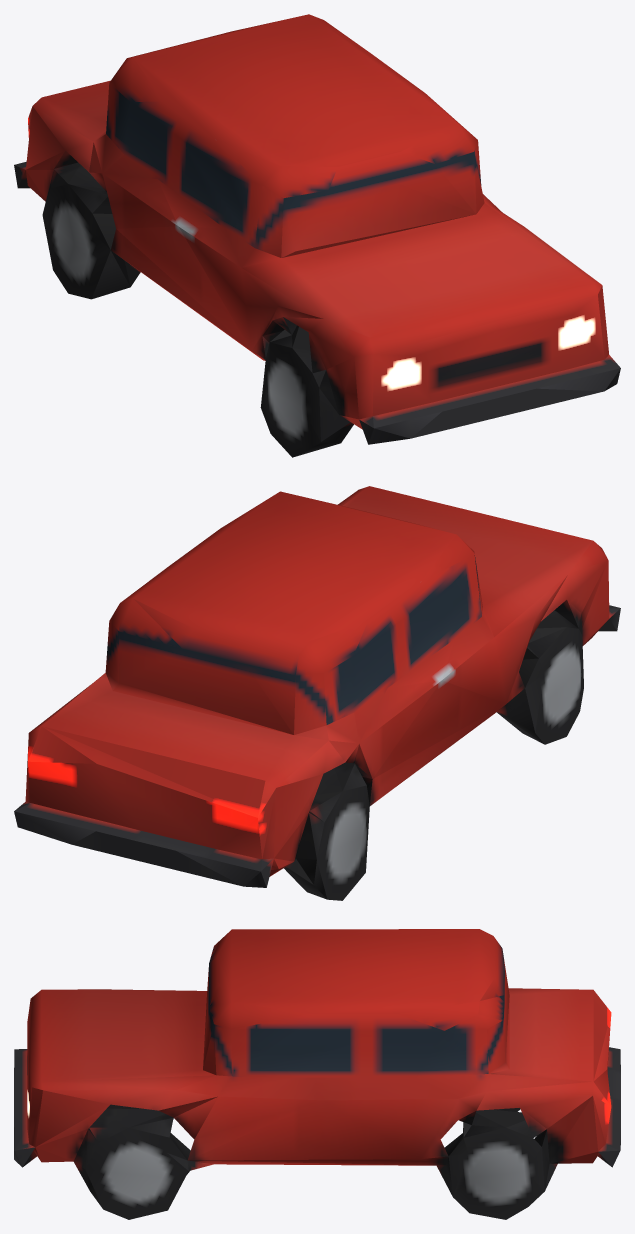
The model's file is car_edits.far.glb.
3 renders of one model, top to bottom at view 1: azimuth 30°, elevation 25°; view 2: azimuth 150°, elevation 25°; view 3: azimuth 270°, elevation 25°, orthographic. The views are drawn at different scales.
Parts seen in each view (by area): view 1: car_edits; view 2: car_edits; view 3: car_edits.
Part boxes in pixels (x1,y1,x2,y2): car_edits: (14,14,620,457); car_edits: (14,486,620,900); car_edits: (14,929,620,1219).
Bounding box in the file's own units: 1.72 × 1.4 × 3.87.
1 material, 1 textured.
